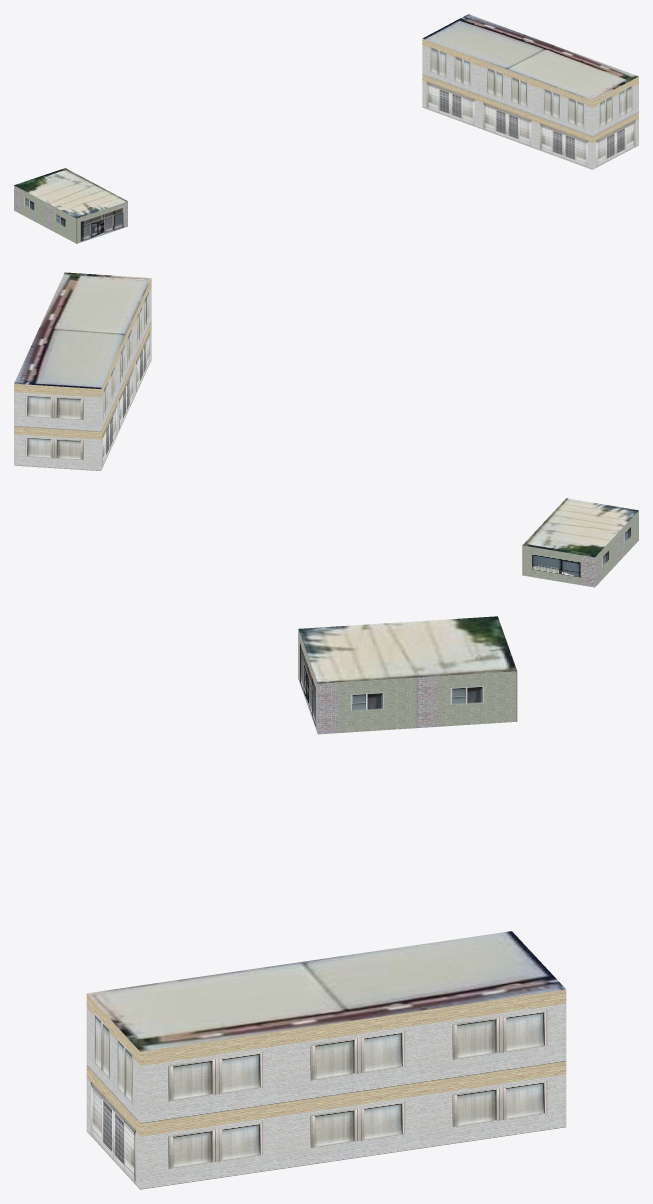
File: tile_LOD8_r2_c5.glb
3 views of the same model, one above another, from view 1: azimuth 30°, elevation 25°; view 2: azimuth 150°, elevation 25°; view 3: azimuth 270°, elevation 25° (orthographic). The views are drawn at different scales.
Size of the model in its own units: 56.14 by 6.91 by 21.77.
Materials: 8 (8 with a texture image).
